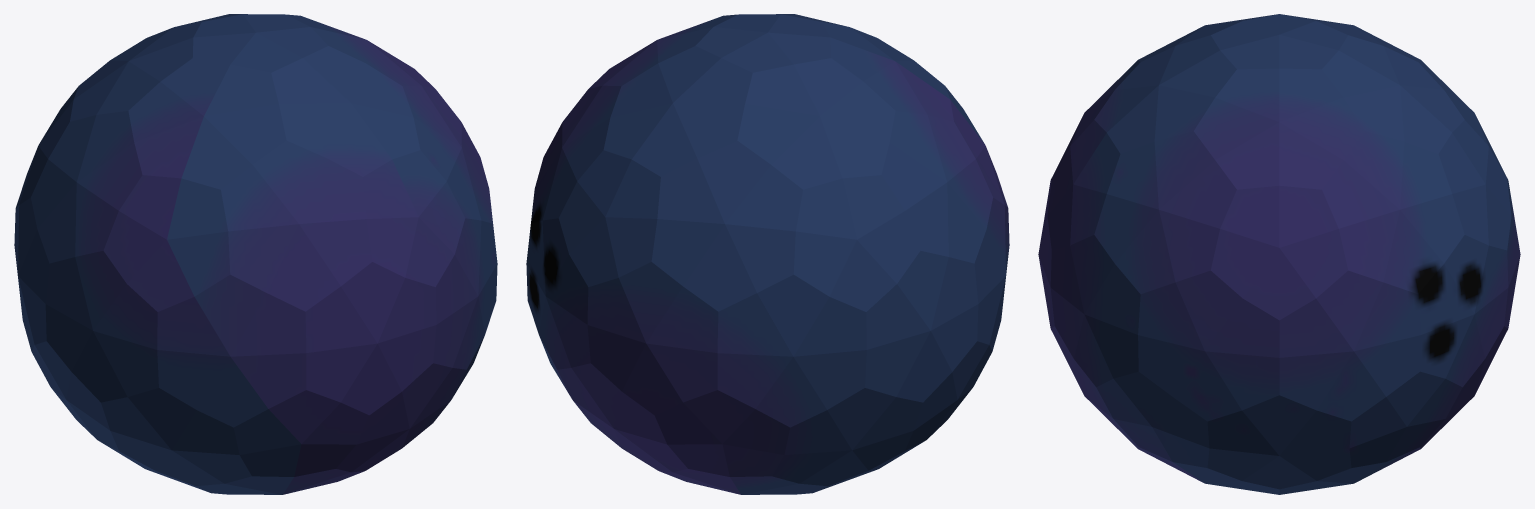
Rendered from demo1_ball.glb.
The picture shows the model from 3 angles, left to right: view 1: azimuth 30°, elevation 25°; view 2: azimuth 150°, elevation 25°; view 3: azimuth 270°, elevation 25°; orthographic projection.
Visible parts, largest first — view 1: Icosphere; view 2: Icosphere; view 3: Icosphere.
Boxes of the visible parts, <box> form: Icosphere: <box>14,14,497,494</box>; Icosphere: <box>526,14,1009,494</box>; Icosphere: <box>1038,14,1520,494</box>.
Size of the model in its own units: 0.4008 by 0.4039 by 0.4015.
Materials: 1 (1 with a texture image).
